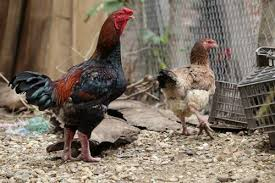Gà/Chicken: (10, 3, 144, 172), (151, 31, 238, 150)
